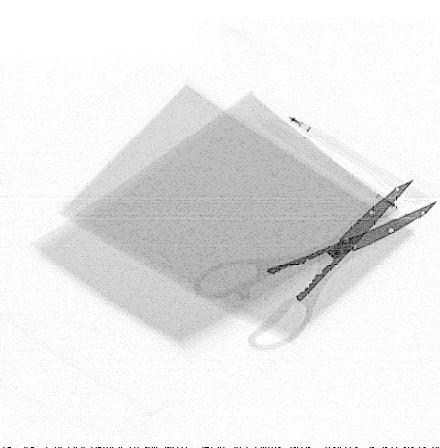Scissors: (192, 179, 438, 352)
